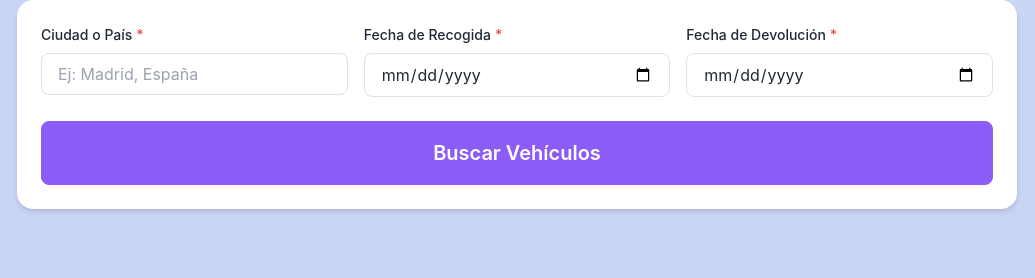
it: SearchForm › debe mostrar errores de validación al enviar formulario vacío
Step 1. Click the button "Buscar Vehículos" → coordinates (517, 153), box x1=41 y1=121 x2=993 y2=185
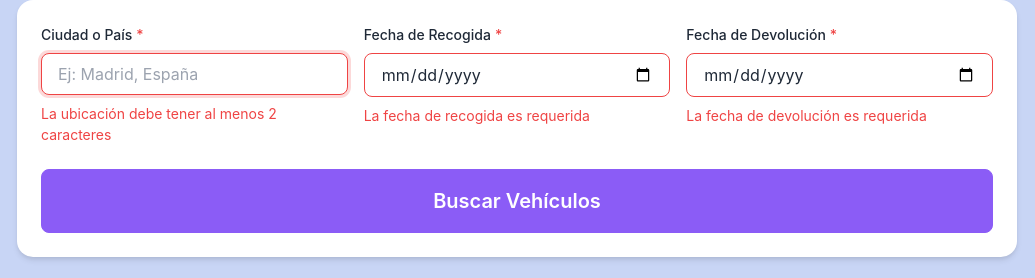
Expected: the message "La fecha de recogida es requerida" is shown, x1=364 y1=107 x2=590 y2=124
